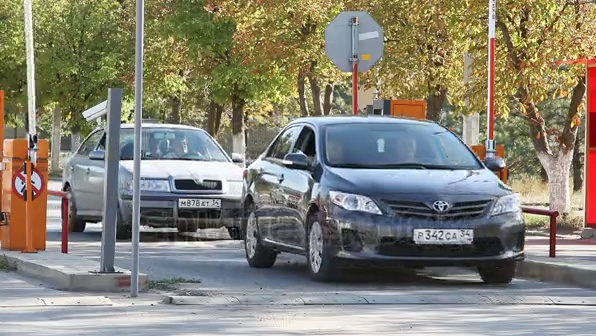licenseplate: (415, 229, 476, 252), (178, 193, 222, 209)
